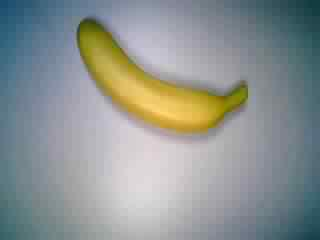banana: (72, 14, 252, 141)
